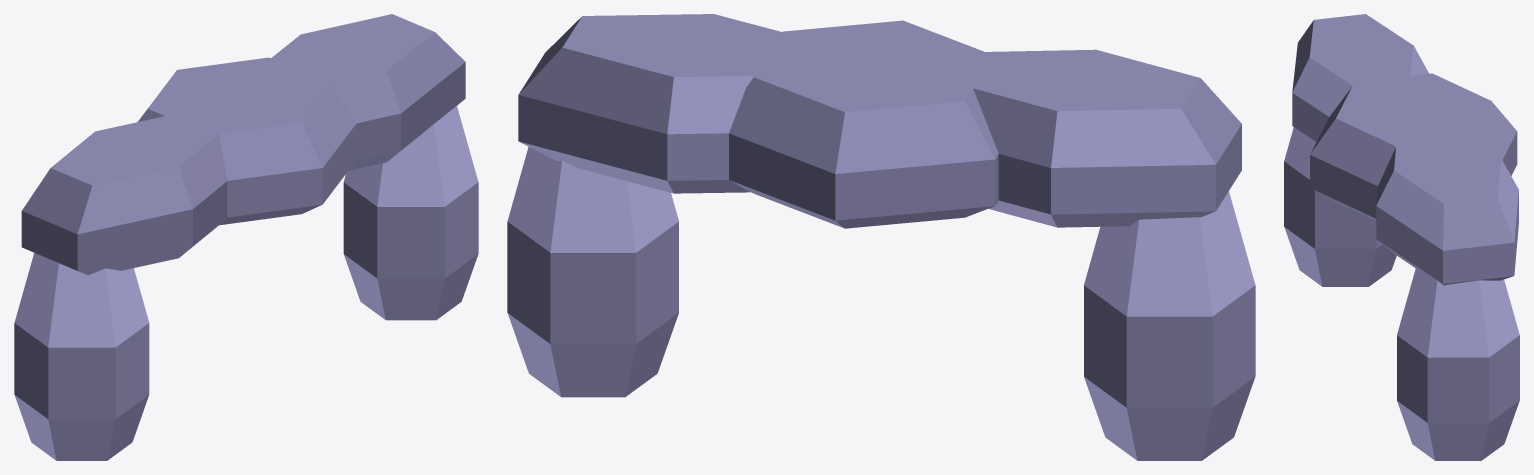
Rendered from L1_Roca2.obj.
3 renders of one model, left to right at view 1: azimuth 30°, elevation 25°; view 2: azimuth 150°, elevation 25°; view 3: azimuth 270°, elevation 25°, orthographic. The views are drawn at different scales.
Parts seen in each view (by area): view 1: leafs_round, leafs_cone; view 2: leafs_round, leafs_cone; view 3: leafs_round, leafs_cone.
Boxes of the visible parts, <box> form: leafs_round: <box>21,14,465,275</box>; leafs_cone: <box>14,106,478,460</box>; leafs_round: <box>518,14,1241,228</box>; leafs_cone: <box>507,147,1255,460</box>; leafs_round: <box>1292,14,1518,285</box>; leafs_cone: <box>1284,127,1519,460</box>.
Bounding box in the file's own units: 13.09 × 6.89 × 5.96.
